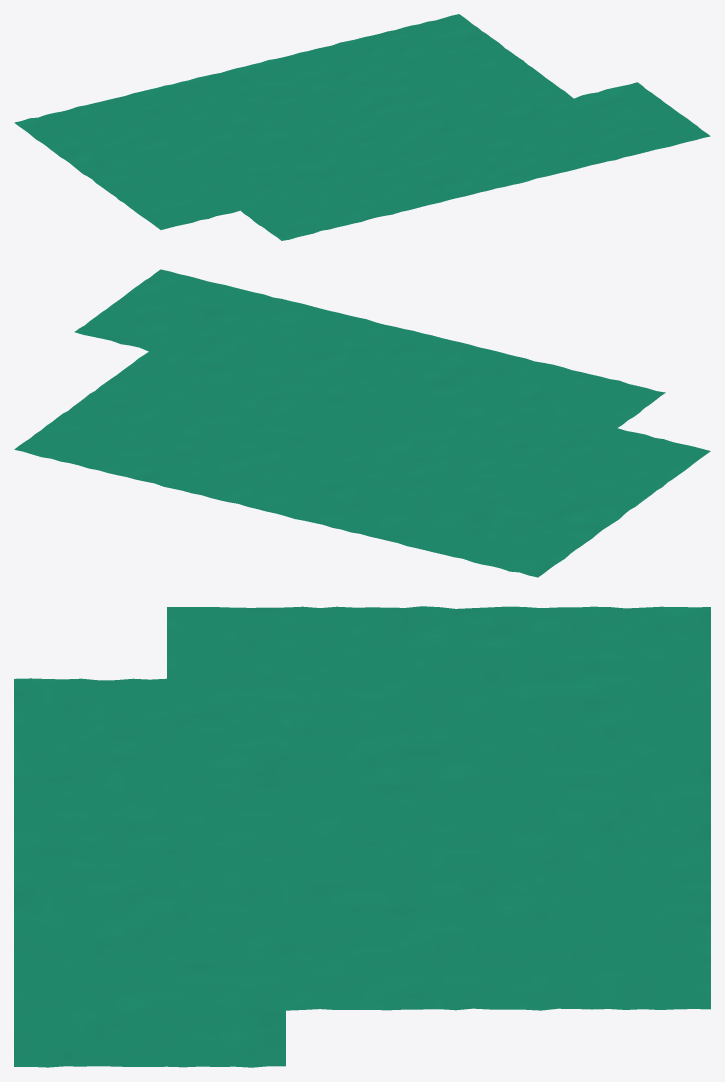
The model's file is water.glb.
3 views of the same model, one above another, from view 1: azimuth 30°, elevation 25°; view 2: azimuth 150°, elevation 25°; view 3: azimuth 270°, elevation 25° (orthographic). The views are drawn at different scales.
Parts seen in each view (by area): view 1: water.001; view 2: water.001; view 3: water.001.
Part boxes in pixels (left/top/right/bottom): water.001: left=14, top=14, right=710, bottom=240; water.001: left=14, top=269, right=710, bottom=577; water.001: left=14, top=606, right=710, bottom=1067.
Bounding box in the file's own units: 145 × 0.5141 × 92.64.
